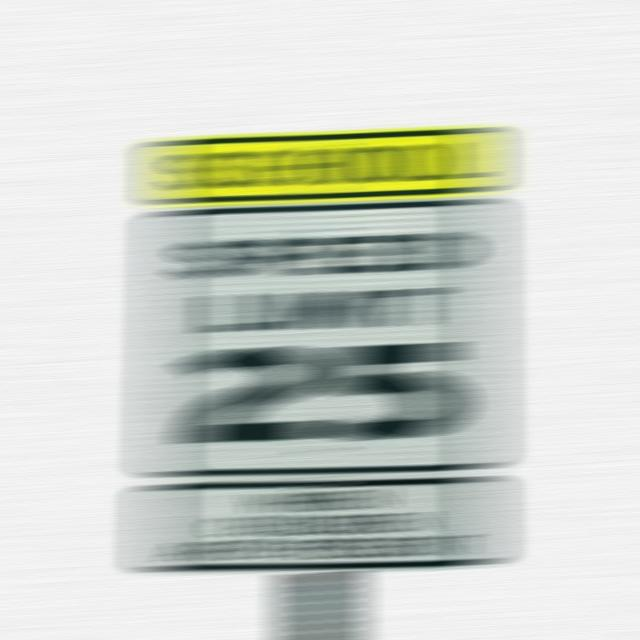speedLimit25: (151, 214, 501, 476)
